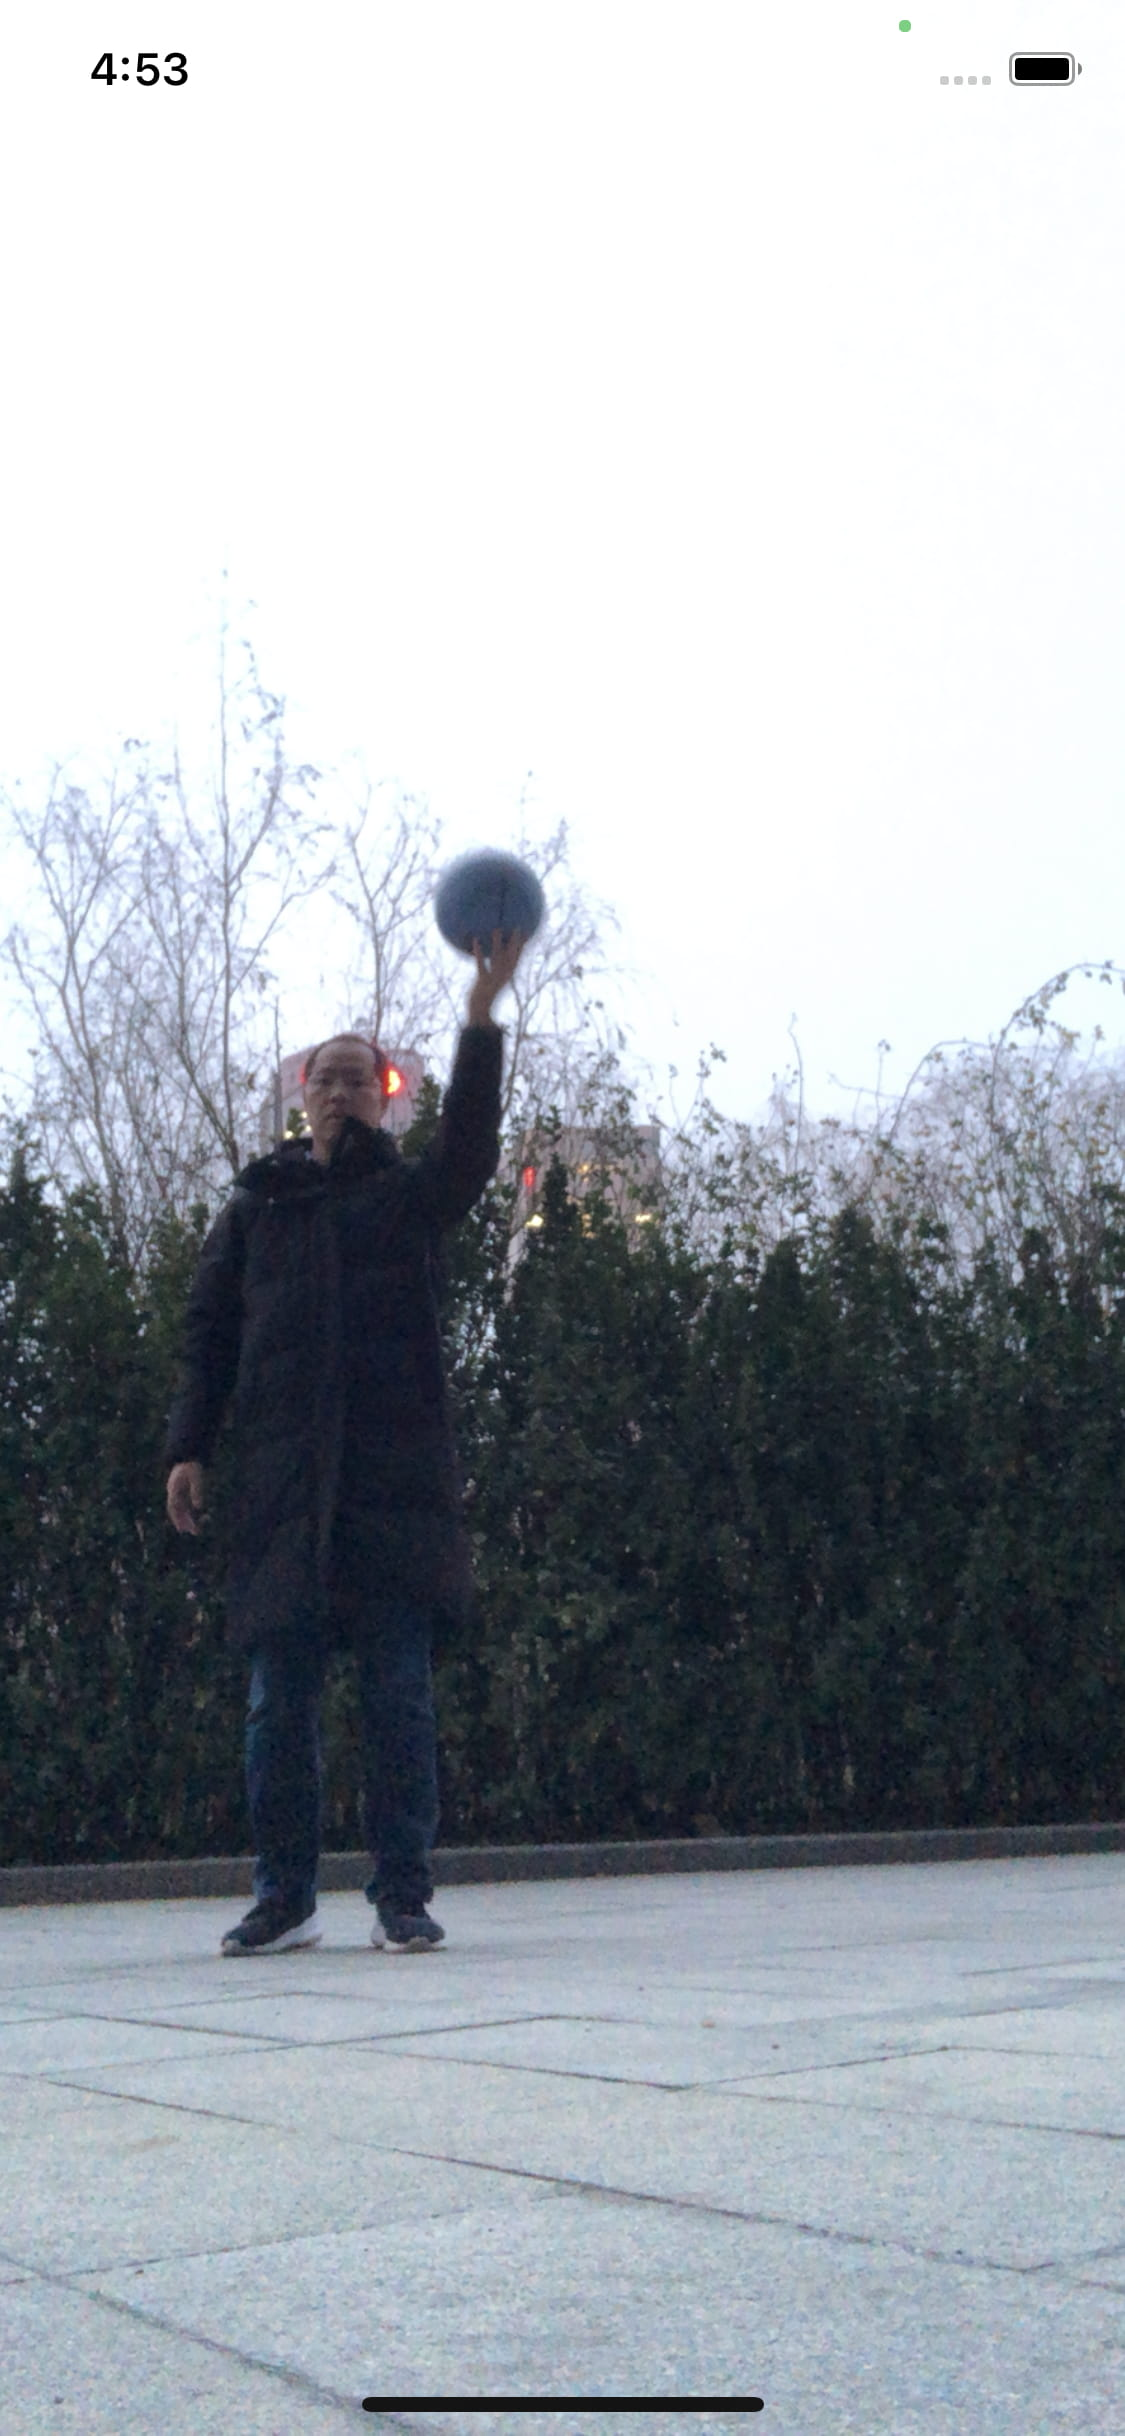ball: (440, 848, 552, 965)
